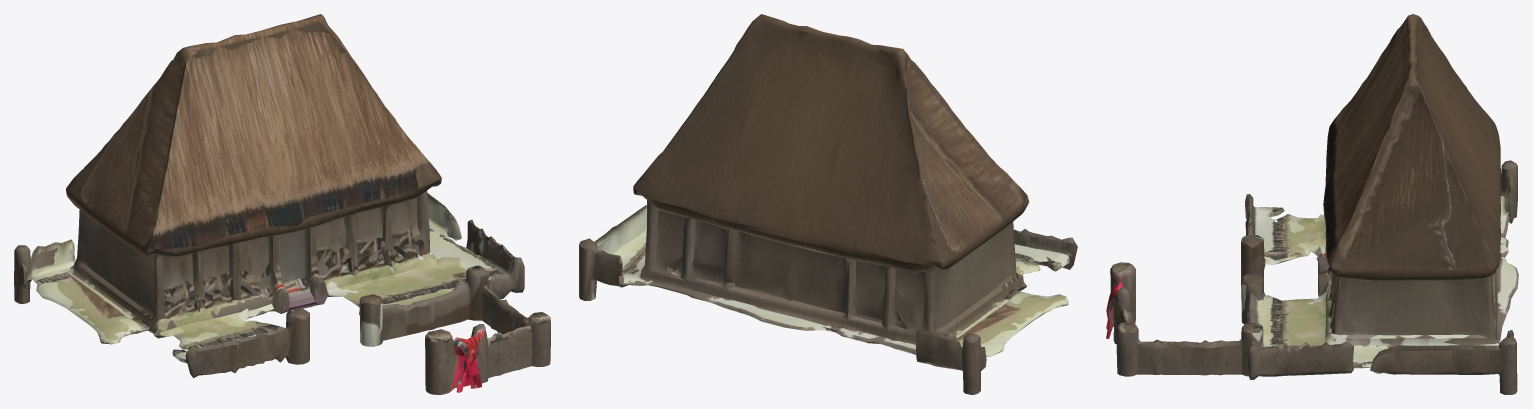
Rendered from palmares_maravilla.glb.
3 renders of one model, left to right at view 1: azimuth 30°, elevation 25°; view 2: azimuth 150°, elevation 25°; view 3: azimuth 270°, elevation 25°, orthographic. The views are drawn at different scales.
Visible parts, largest first — view 1: geometry_0; view 2: geometry_0; view 3: geometry_0.
Part boxes in pixels (bbox=[...]): geometry_0: bbox=[14, 14, 550, 394]; geometry_0: bbox=[579, 14, 1077, 394]; geometry_0: bbox=[1106, 14, 1518, 394].
Bounding box in the file's own units: 5.4 × 3.55 × 5.15.
Materials: 1 (1 with a texture image).
